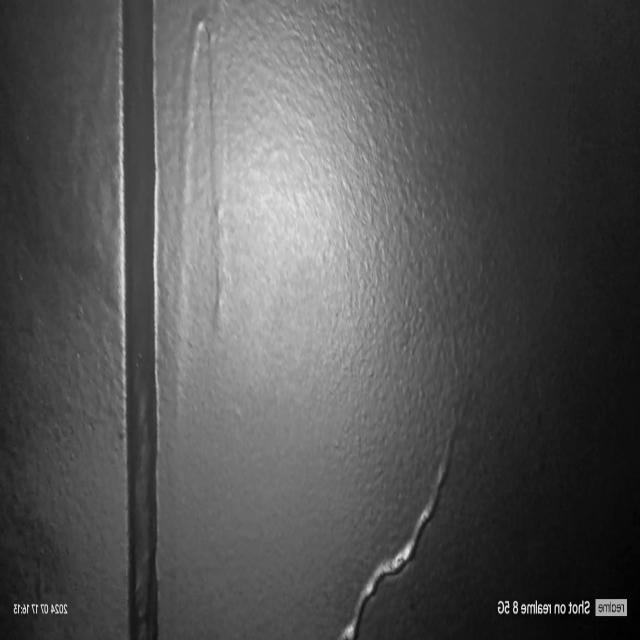paint drips: (327, 380, 466, 640), (166, 0, 241, 439)
